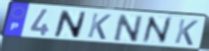4: (29, 8, 51, 38)
K: (86, 12, 113, 41), (173, 18, 200, 47)
N: (52, 9, 88, 40), (112, 13, 144, 43), (141, 15, 173, 45)
